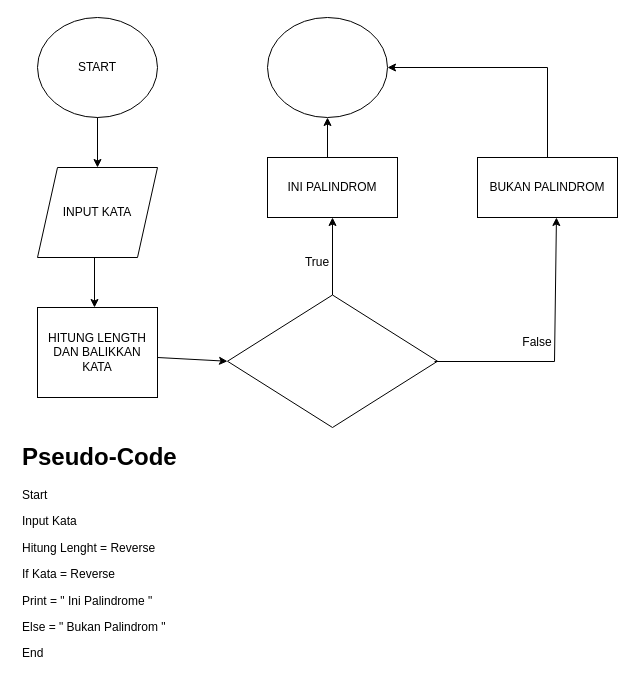
Image size: 635x695. Some labels were removed from this diagram. The box of each missing label's shape, as (x1, y1, x2, y2) in pixels:
APAKAH KATA YANG DI BALIK = HASIL: (226, 294, 438, 428)
END: (266, 16, 388, 118)
